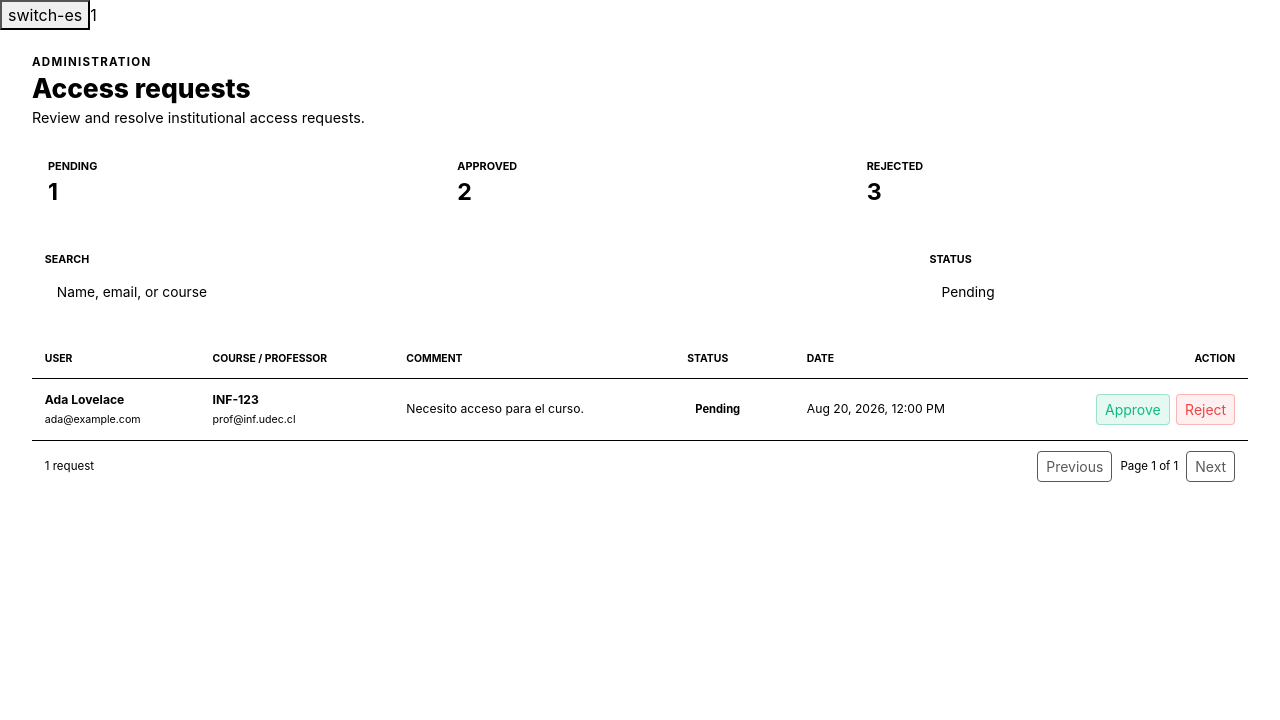
Test: AdminAccessRequests i18n and decisions › keeps approval successful and warns for email status FAILED
Expected: the text "ada@example.com" is shown, [45,413,141,426]
Click the button "Approve" at (1133, 410), box [1096,394,1170,425]
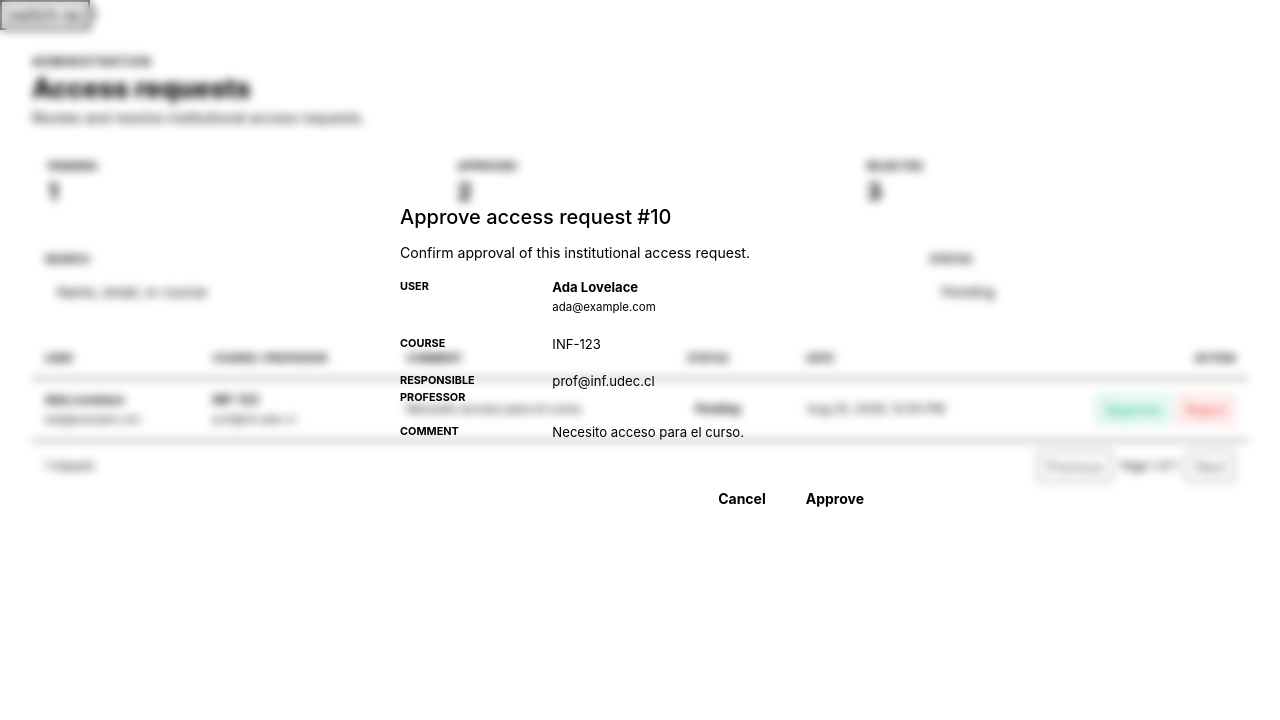
Click the button "Approve" at (835, 499), box [790,479,880,519]
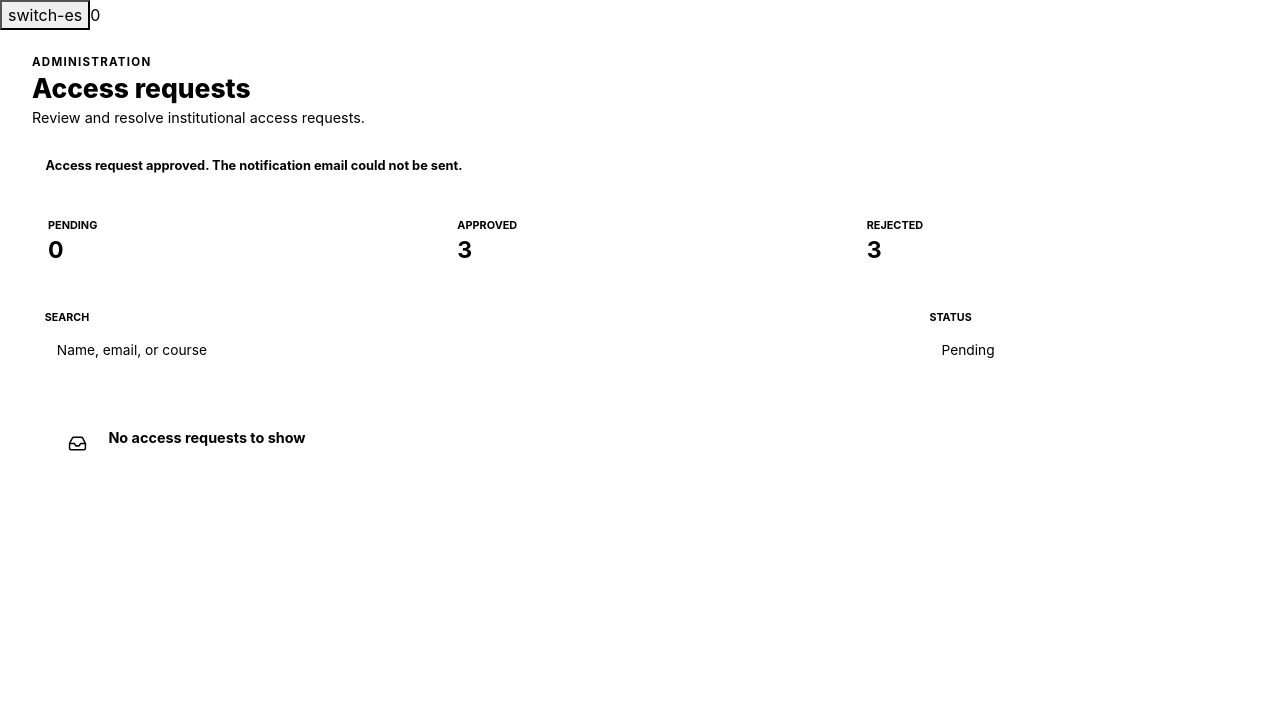
Expected: the message reads "Access request approved. The notification email could not be sent.", [46,158,463,173]
